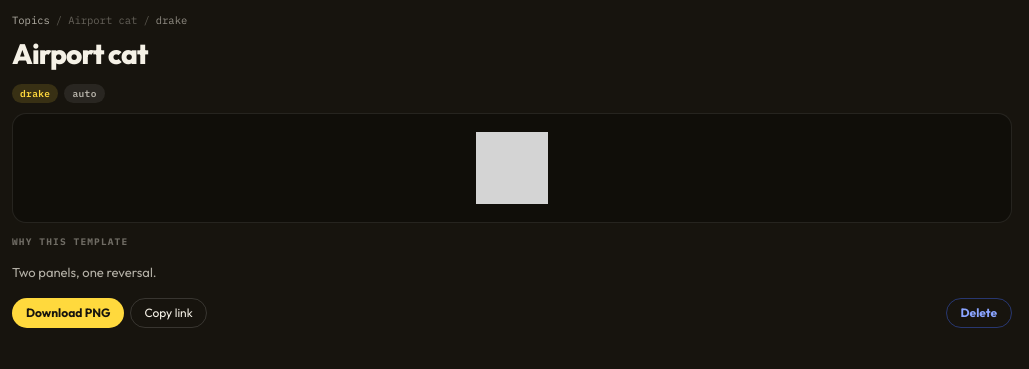
Test: RenderDetailPage › stays, and says why, when the server will not delete
This screenshot has width=1029, height=369.
Step 1. Click the button "Delete" → (979, 313), box left=946, top=298, right=1012, bottom=328
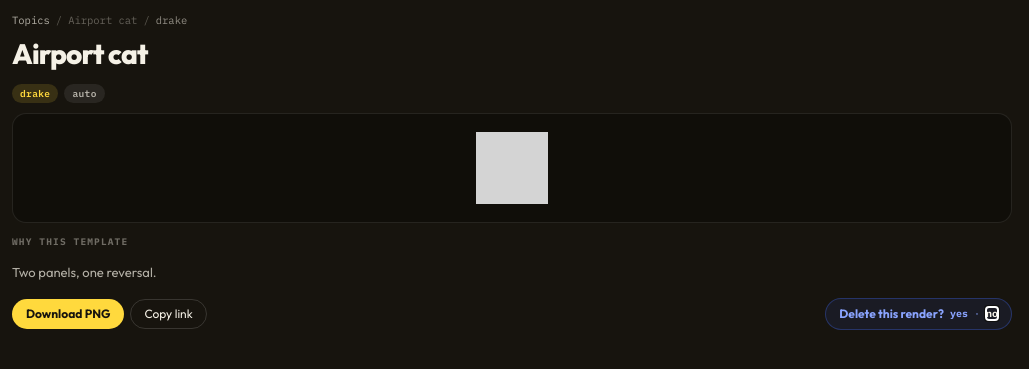
Step 2. Click the button "yes" → (959, 314), box left=950, top=309, right=968, bottom=319
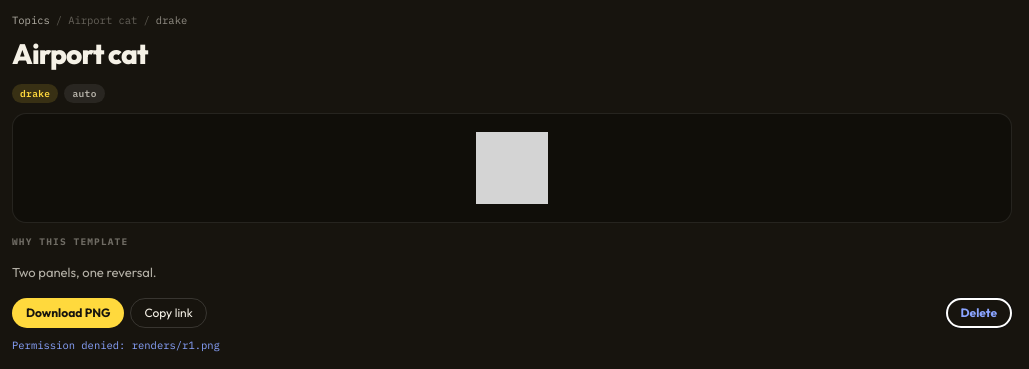
Expected: the message reads "Permission denied: renders/r1.png", left=12, top=338, right=220, bottom=352
